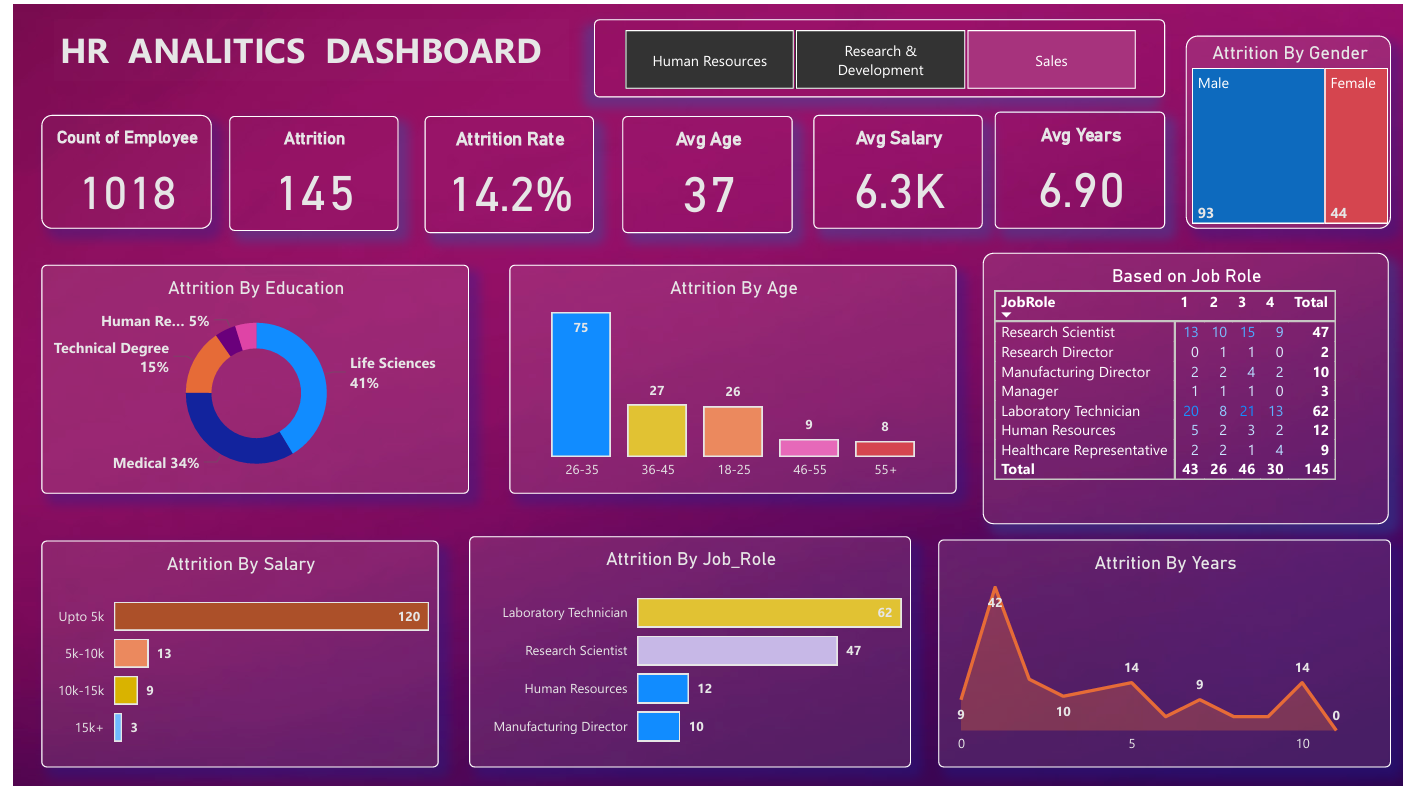

The page's visual inventory and layout, read from the dashboard file:
{"tool":"powerbi","page":{"name":"Page 1","canvas":[1280,720],"ordinal":0},"visuals":[{"type":"card","title":"Count of Employee","fields":{"Values":["CountNonNull(HR_Analytics.EmpID)"]},"box":[26.1,101.5,156.4,105.7],"z":0},{"type":"card","title":"Attrition","fields":{"Values":["Sum(HR_Analytics.AttritionCount)"]},"box":[199,102.9,156.4,105.7],"z":1000},{"type":"card","title":"Attrition Rate","fields":{"Values":["HR_Analytics.AttritionRate"]},"box":[378.7,102.9,156.4,108.4],"z":2000},{"type":"card","title":"Avg Age","fields":{"Values":["Avg(HR_Analytics.Age)"]},"box":[561.2,102.9,156.4,108.4],"z":3000},{"type":"card","title":"Avg Salary","fields":{"Values":["Avg(HR_Analytics.MonthlyIncome)"]},"box":[736.9,101.5,156.4,105.7],"z":4000},{"type":"card","title":"Avg Years","fields":{"Values":["Avg(HR_Analytics.YearsAtCompany)"]},"box":[904.3,98.8,156.4,108.4],"z":5000},{"type":"donutChart","title":"Attrition By Education","fields":{"Category":["HR_Analytics.EducationField"],"Y":["Sum(HR_Analytics.AttritionCount)"]},"box":[26.1,240.1,393.8,211.3],"z":6000},{"type":"columnChart","title":"Attrition By Age","fields":{"Y":["Sum(HR_Analytics.AttritionCount)"],"Category":["HR_Analytics.AgeGroup"]},"box":[456.9,240.1,411.7,211.3],"z":7000},{"type":"pivotTable","title":"Based on Job Role","fields":{"Rows":["HR_Analytics.JobRole"],"Columns":["HR_Analytics.JobSatisfaction"],"Values":["Sum(HR_Analytics.AttritionCount)"]},"box":[893.3,229.2,373.2,249.7],"z":8000},{"type":"barChart","title":"Attrition By Salary","fields":{"Y":["Sum(HR_Analytics.AttritionCount)"],"Category":["HR_Analytics.SalarySlab"]},"box":[26.1,494,366.4,208.6],"z":9000},{"type":"barChart","title":"Attrition By Job_Role","fields":{"Y":["Sum(HR_Analytics.AttritionCount)"],"Category":["HR_Analytics.JobRole"]},"box":[419.9,489.9,407.5,212.7],"z":10000},{"type":"areaChart","title":"Attrition By Years","fields":{"Category":["HR_Analytics.YearsAtCompany"],"Y":["Sum(HR_Analytics.AttritionCount)"]},"box":[852.1,492.6,417.2,209.9],"z":11000},{"type":"treemap","title":"Attrition By Gender","fields":{"Group":["HR_Analytics.Gender"],"Values":["Sum(HR_Analytics.AttritionCount)"]},"box":[1079.9,28.8,189.4,178.4],"z":12000},{"type":"textbox","box":[38.4,13.7,473.4,57.6],"z":13000},{"type":"slicer","fields":{"Values":["HR_Analytics.Department"]},"box":[535.2,13.7,525.6,72.7],"z":14000}]}

Visuals, with their boxes in screenshot pixels (x1, y1, x2, y2), scaled from the page's 1280x720 canvas onto the 1411x797 screenshot:
"Count of Employee" card: bbox=[29, 112, 201, 229]
"Attrition" card: bbox=[219, 114, 392, 231]
"Attrition Rate" card: bbox=[417, 114, 590, 234]
"Avg Age" card: bbox=[619, 114, 791, 234]
"Avg Salary" card: bbox=[812, 112, 985, 229]
"Avg Years" card: bbox=[997, 109, 1169, 229]
"Attrition By Education" donutChart: bbox=[29, 266, 463, 500]
"Attrition By Age" columnChart: bbox=[504, 266, 957, 500]
"Based on Job Role" pivotTable: bbox=[985, 254, 1396, 530]
"Attrition By Salary" barChart: bbox=[29, 547, 433, 778]
"Attrition By Job_Role" barChart: bbox=[463, 542, 912, 778]
"Attrition By Years" areaChart: bbox=[939, 545, 1399, 778]
"Attrition By Gender" treemap: bbox=[1190, 32, 1399, 229]
textbox: bbox=[42, 15, 564, 79]
slicer - HR_Analytics.Department: bbox=[590, 15, 1169, 96]
